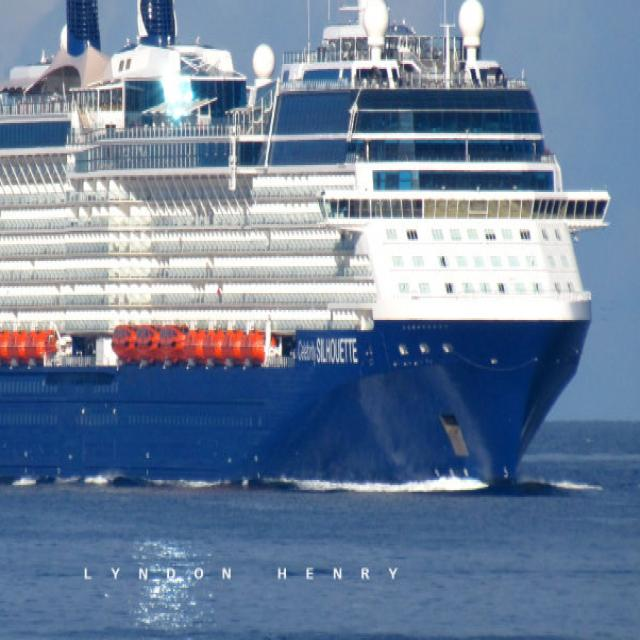cruises: (1, 1, 619, 513)
